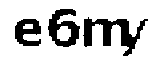6: (45, 6, 80, 50)
e: (11, 17, 44, 52)
m: (83, 15, 127, 49)
y: (122, 18, 153, 60)
